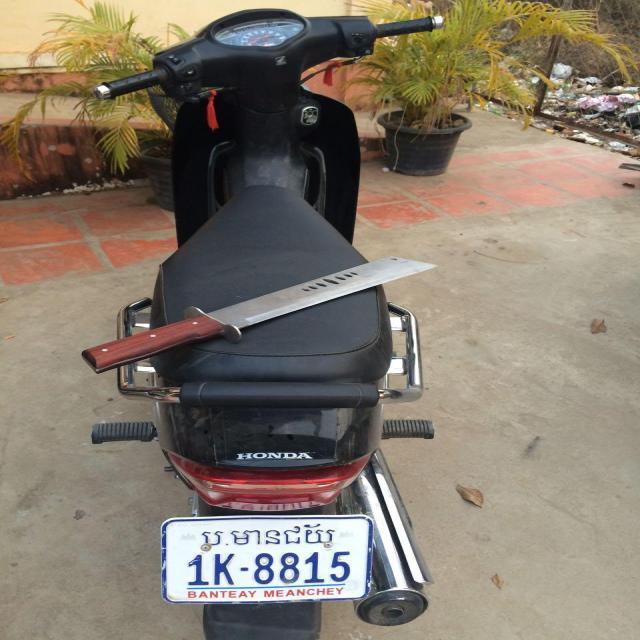Banteay_Meanchey: (202, 523, 334, 548)
